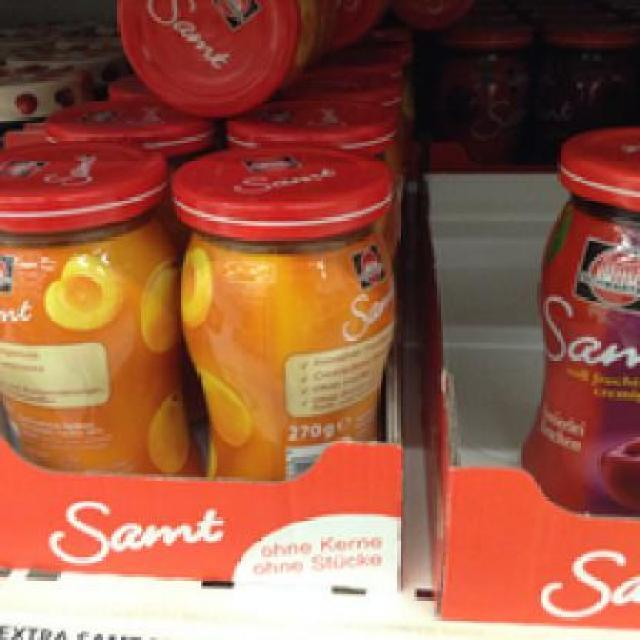Jam: (168, 142, 398, 478), (0, 137, 203, 474), (522, 122, 638, 512)
